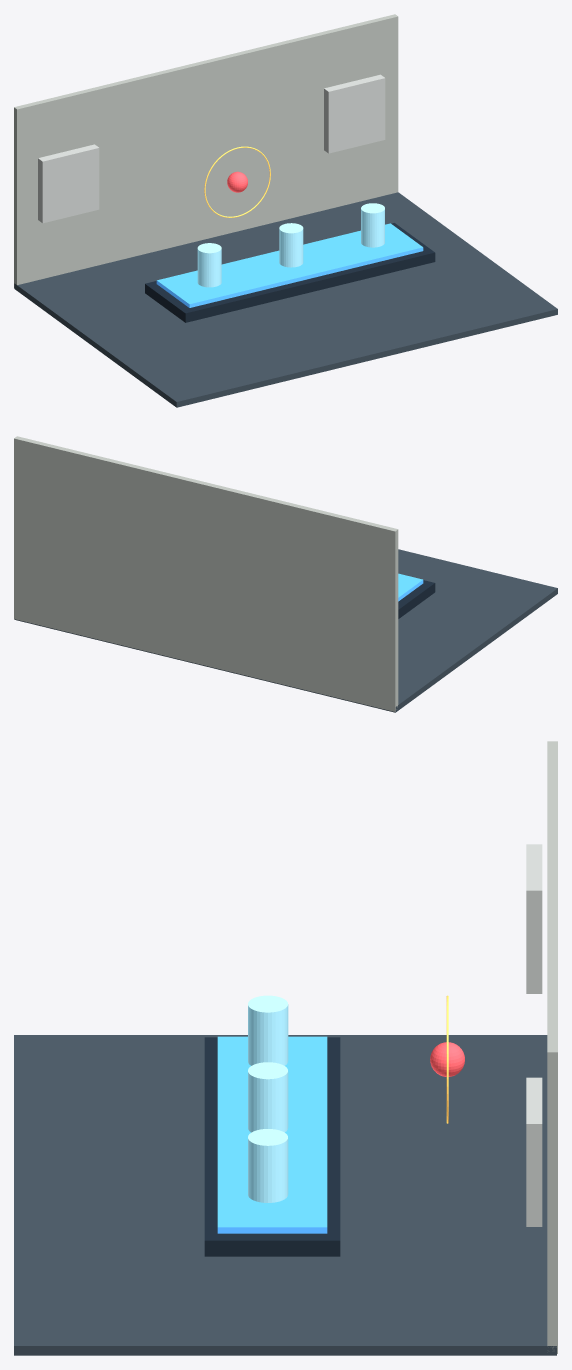
The model's file is grade8-science-lab.glb.
3 views of the same model, one above another, from view 1: azimuth 30°, elevation 25°; view 2: azimuth 150°, elevation 25°; view 3: azimuth 270°, elevation 25° (orthographic). The views are drawn at different scales.
Parts seen in each view (by area): view 1: Science lab back wall, Science lab floor platform, Bench luminous worktop, Central experiment bench, Wall lab cabinet.001, Wall lab cabinet, Glass beaker.001, Glass beaker, Glass beaker.002; view 2: Science lab back wall, Science lab floor platform, Central experiment bench, Bench luminous worktop; view 3: Science lab floor platform, Bench luminous worktop, Central experiment bench, Science lab back wall, Glass beaker.002, Glass beaker, Glass beaker.001, Wall lab cabinet, Wall lab cabinet.001, Animated atom nucleus.
Boxes of the visible parts, <box> form: Science lab back wall: <box>14,14,398,287</box>; Science lab floor platform: <box>14,192,557,407</box>; Bench luminous worktop: <box>156,223,423,307</box>; Central experiment bench: <box>145,223,435,322</box>; Wall lab cabinet.001: <box>324,74,385,153</box>; Wall lab cabinet: <box>38,144,99,223</box>; Glass beaker.001: <box>279,223,303,267</box>; Glass beaker: <box>197,243,221,287</box>; Glass beaker.002: <box>361,203,384,247</box>; Science lab back wall: <box>14,436,398,711</box>; Science lab floor platform: <box>14,549,557,712</box>; Central experiment bench: <box>398,580,435,618</box>; Bench luminous worktop: <box>398,573,423,601</box>; Science lab floor platform: <box>14,1035,556,1355</box>; Bench luminous worktop: <box>217,1036,327,1233</box>; Central experiment bench: <box>204,1037,340,1256</box>; Science lab back wall: <box>547,741,557,1353</box>; Glass beaker.002: <box>248,1129,288,1202</box>; Glass beaker: <box>248,995,288,1065</box>; Glass beaker.001: <box>248,1062,288,1132</box>; Wall lab cabinet: <box>526,844,542,993</box>; Wall lab cabinet.001: <box>526,1077,542,1226</box>; Animated atom nucleus: <box>430,1042,464,1076</box>.
Bounding box in the file's own units: 8.4 × 3.82 × 6.21.
